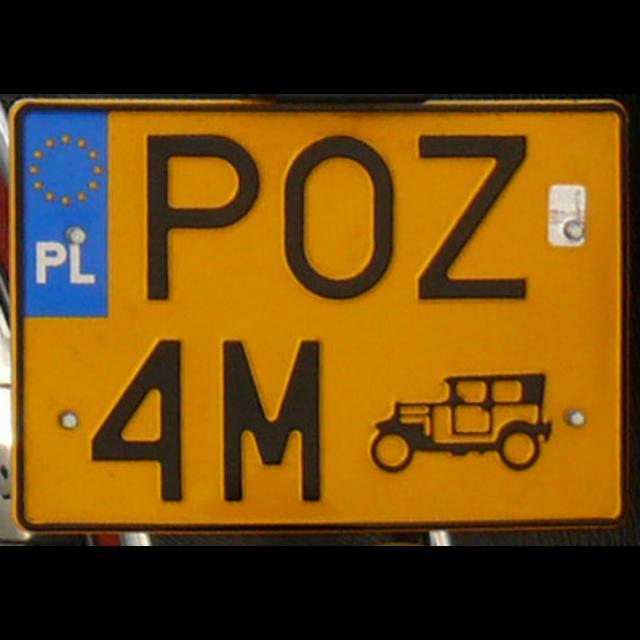pl_license_plate: (17, 103, 626, 524)
